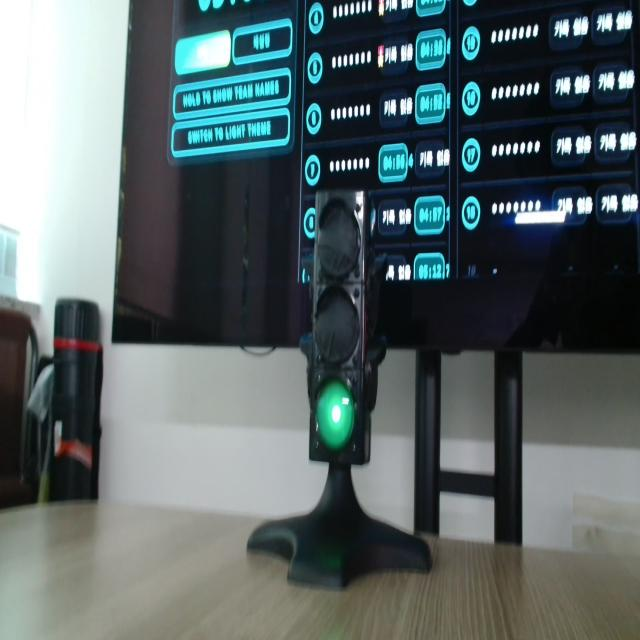green_light: (317, 380, 354, 450)
